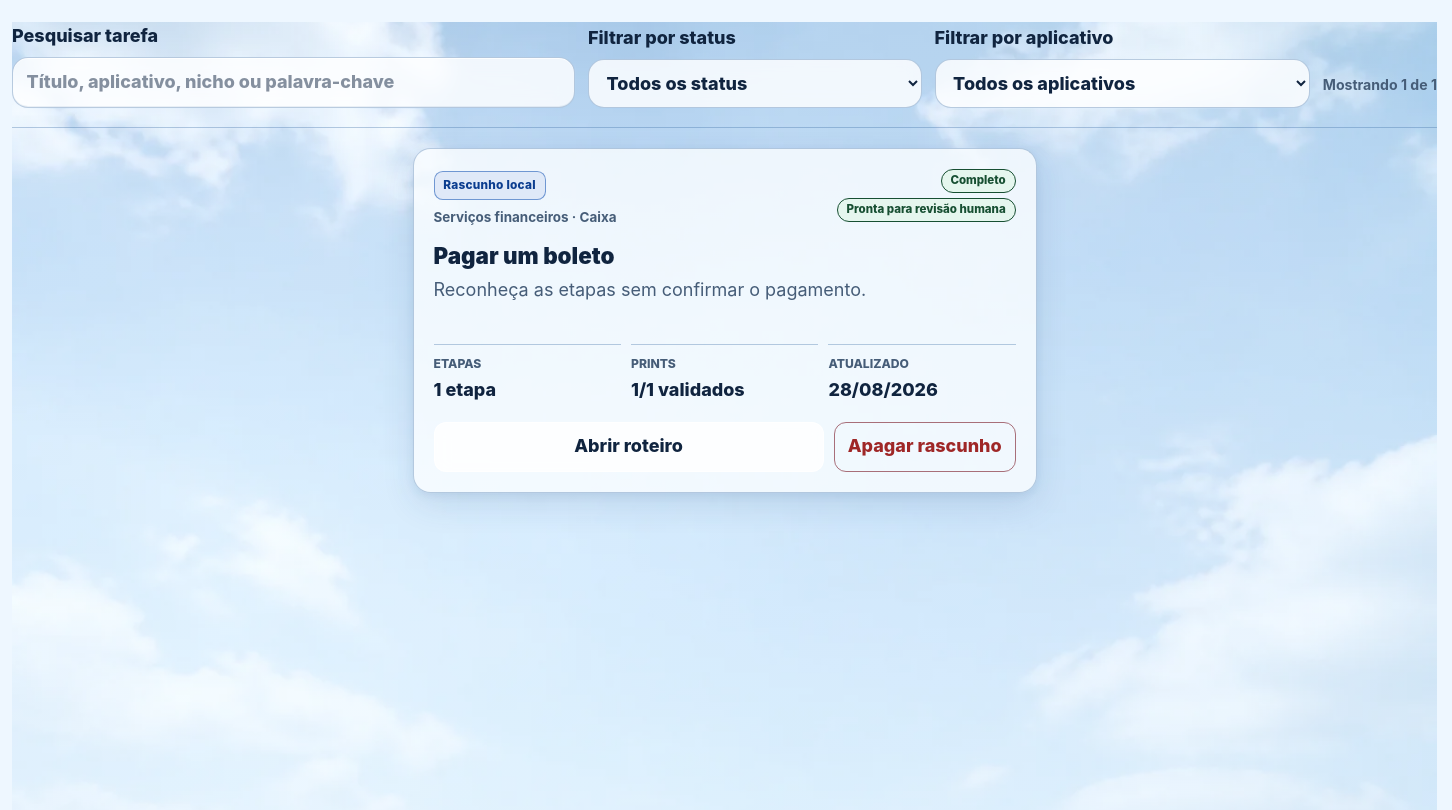
Test case: biblioteca local de guias › oferece limpar filtros quando não há resultado
Type "não existe" into the search field labelled "Pesquisar tarefa". click: coordinates (294, 83)
box: [12,57,575,108]
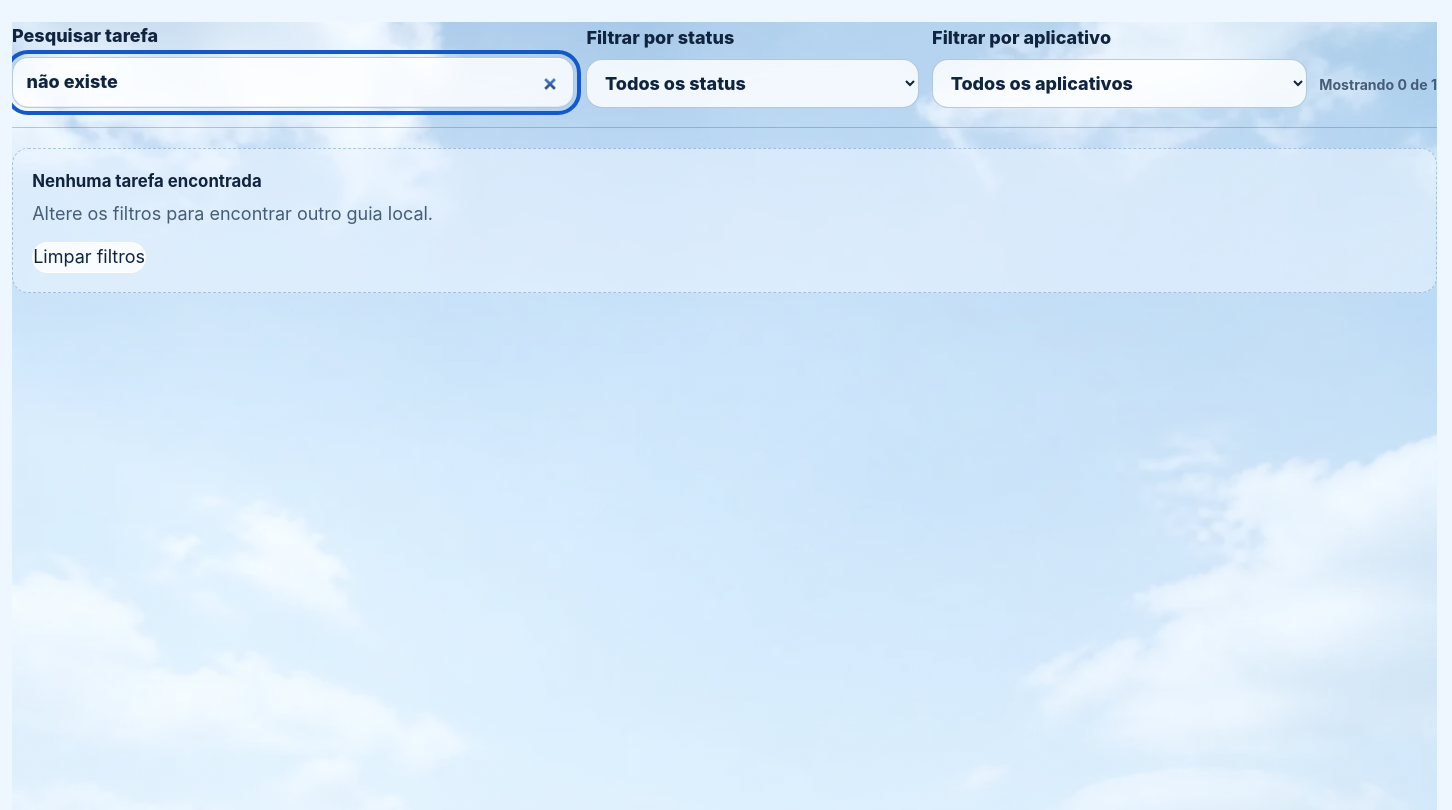
Check: the text "Nenhuma tarefa encontrada" is shown, box [32,171,262,191]
Click the button "Limpar filtros". click: coordinates (89, 257)
box: [32,242,146,273]
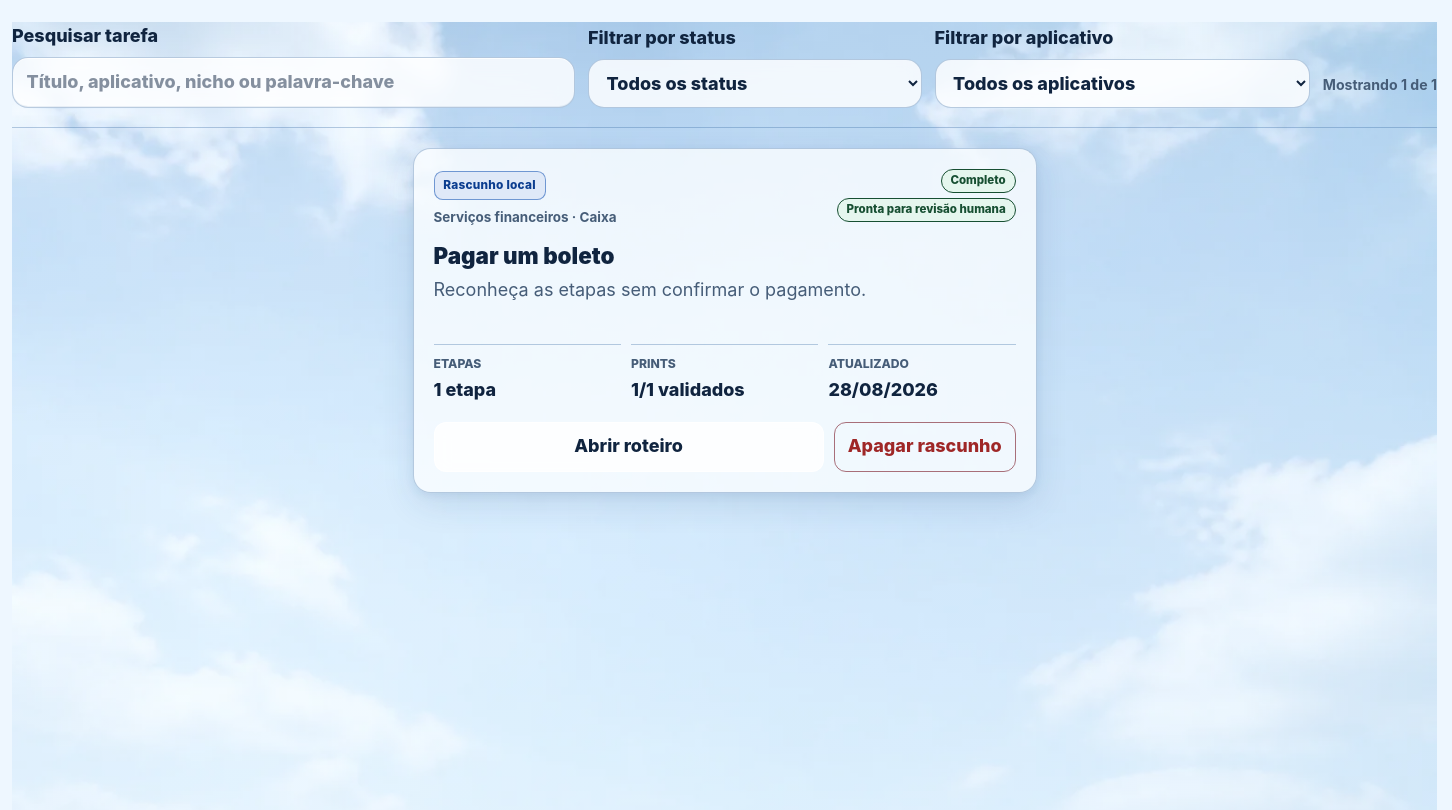
Check: the heading "Pagar um boleto" is shown, box [434,242,614,269]
Check: the search field labelled "Pesquisar tarefa" is empty, box [12,57,575,108]
